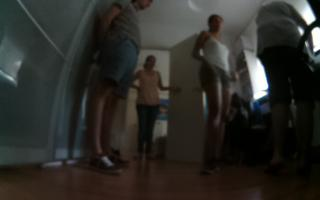person: (89, 1, 158, 178), (251, 1, 320, 172), (183, 8, 242, 180), (128, 46, 183, 168)
